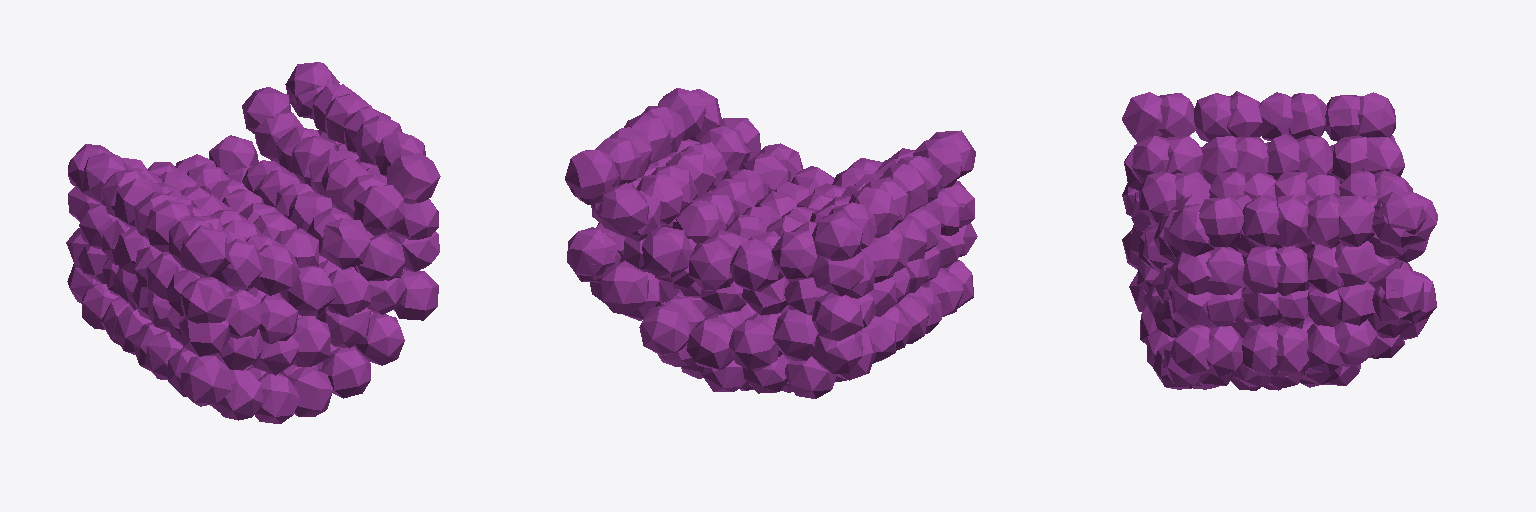
File: chicles.obj
The picture shows the model from 3 angles: view 1: azimuth 30°, elevation 25°; view 2: azimuth 150°, elevation 25°; view 3: azimuth 270°, elevation 25°; orthographic projection.
Visible parts, largest first — view 1: Object_8; view 2: Object_8; view 3: Object_8.
Part boxes in pixels (left/top/right/bottom): Object_8: left=66, top=62, right=440, bottom=423; Object_8: left=565, top=88, right=977, bottom=398; Object_8: left=1122, top=91, right=1437, bottom=390.
Size of the model in its own units: 0.7566 by 0.6159 by 0.7389.